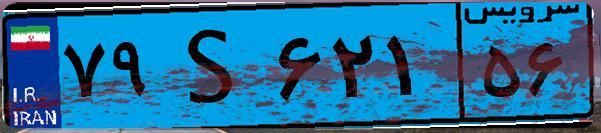1: (385, 28, 445, 110)
2: (330, 28, 385, 110)
5: (475, 38, 525, 113)
6: (270, 28, 330, 110), (525, 38, 570, 115)
7: (57, 26, 110, 100)
9: (110, 28, 158, 98)
S: (158, 12, 270, 120)
